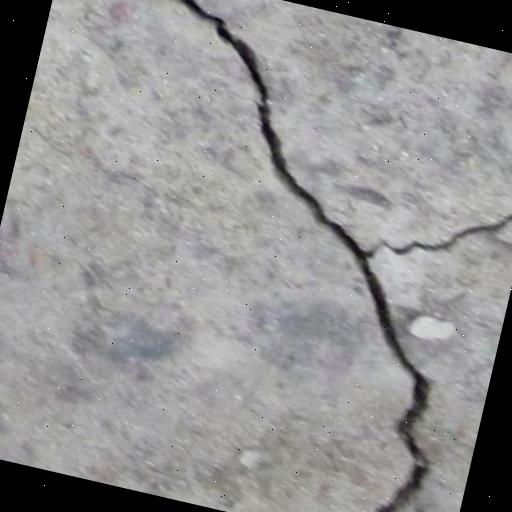spalling: (166, 0, 512, 512)
